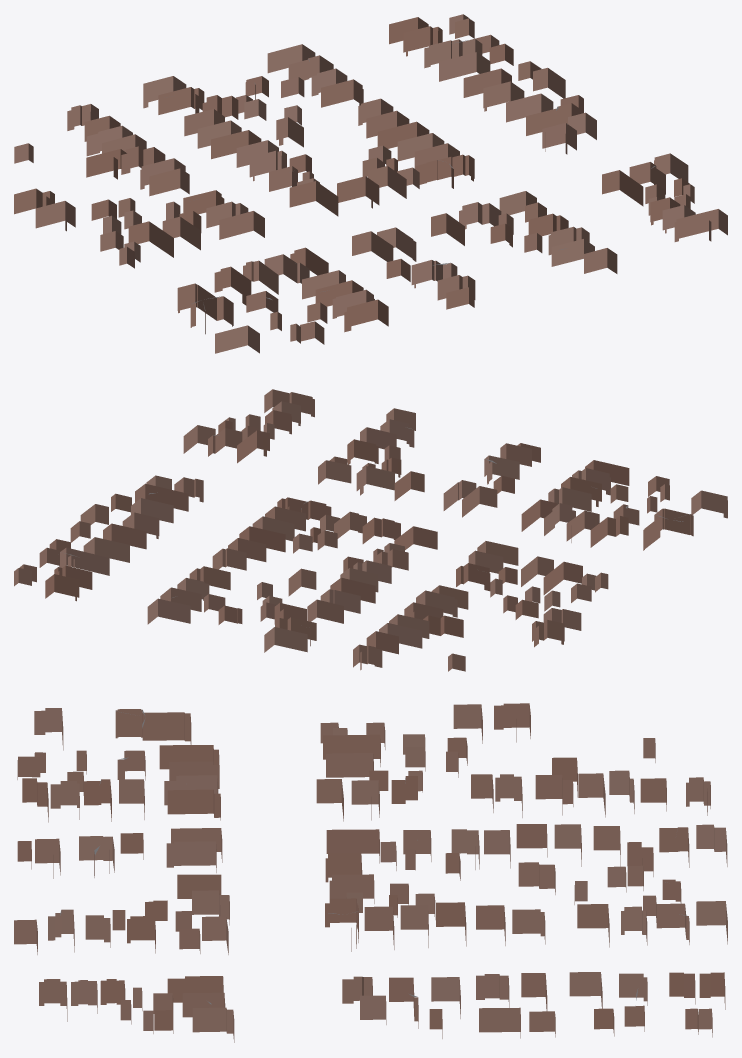
Rendered from c_1641_17828_buildings_residential.glb.
3 renders of one model, top to bottom at view 1: azimuth 30°, elevation 25°; view 2: azimuth 150°, elevation 25°; view 3: azimuth 270°, elevation 25°, orthographic. The views are drawn at different scales.
Visible parts, largest first — view 1: geometry_0; view 2: geometry_0; view 3: geometry_0.
Part boxes in pixels (box(x1,y1,x2,y2)): geometry_0: box(14, 14, 727, 353); geometry_0: box(14, 389, 727, 671); geometry_0: box(14, 703, 727, 1042).
Size of the model in its own units: 267 by 11.08 by 254.
